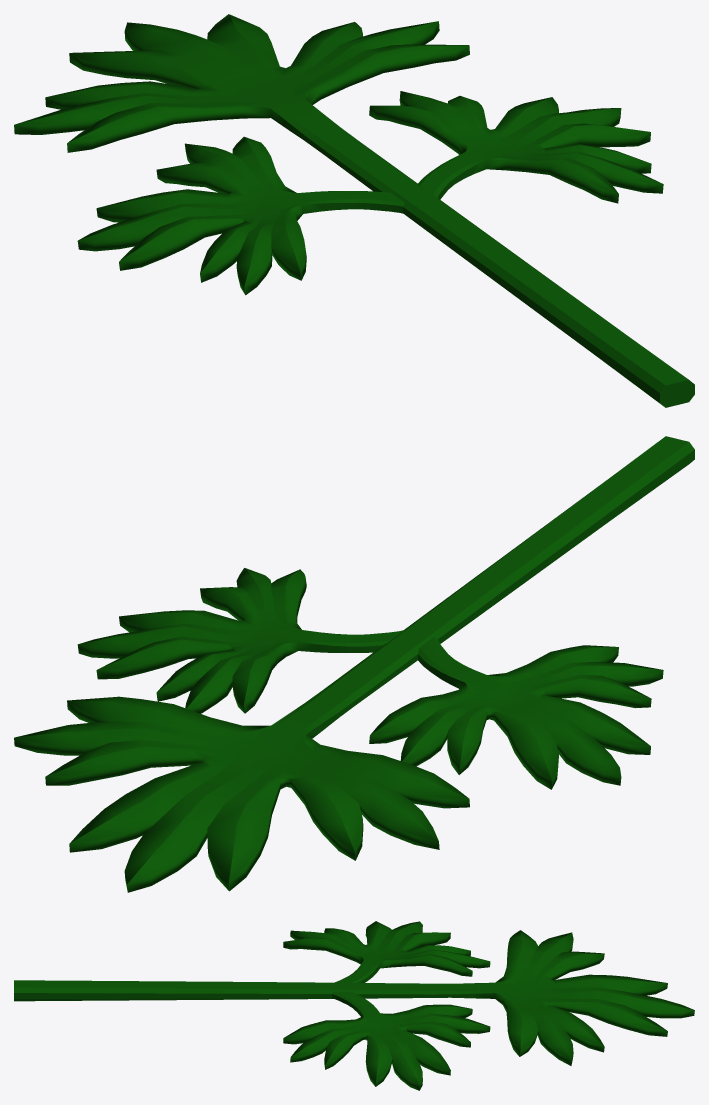
Rendered from parsley.fbx.
The picture shows the model from 3 angles, top to bottom: view 1: azimuth 30°, elevation 25°; view 2: azimuth 150°, elevation 25°; view 3: azimuth 270°, elevation 25°; orthographic projection. The views are drawn at different scales.
Visible parts, largest first — view 1: Cube.001; view 2: Cube.001; view 3: Cube.001.
Part boxes in pixels (box(x1,y1,x2,y2)): Cube.001: box(14, 14, 694, 407); Cube.001: box(14, 436, 694, 892); Cube.001: box(14, 921, 694, 1090).
Bounding box in the file's own units: 1.55 × 0.1517 × 2.71.
